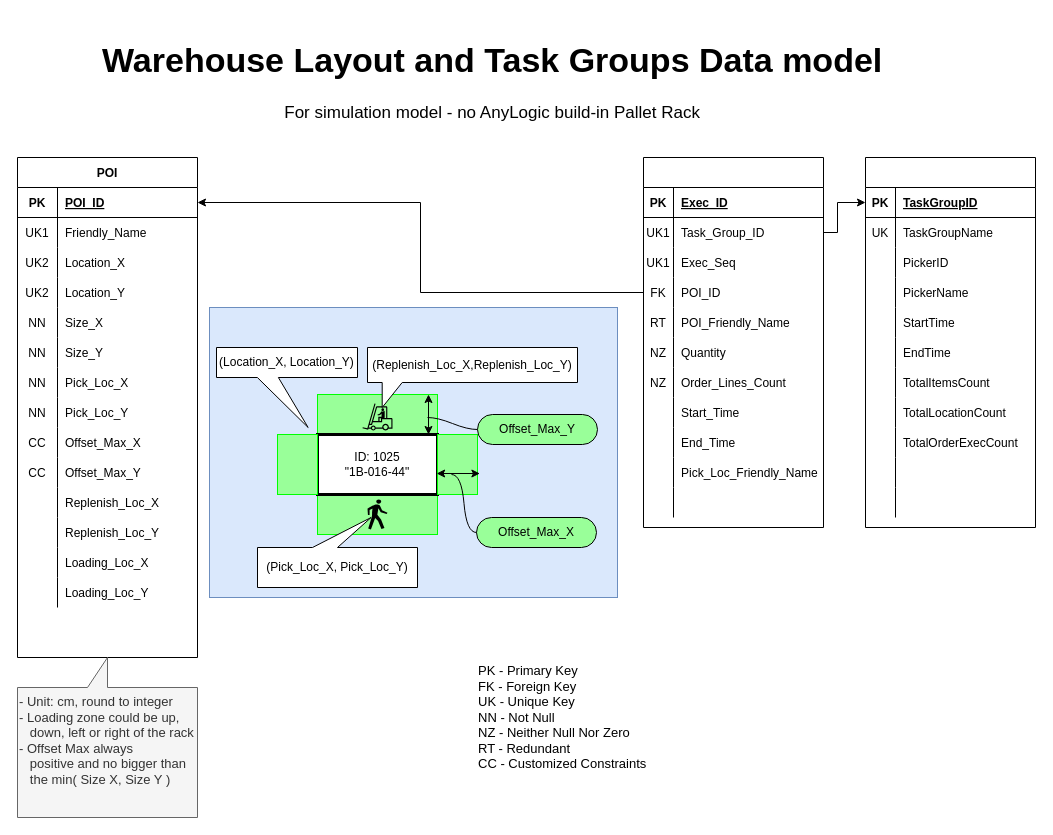
This 1053x835 diagram has some shape labels left out. The shapes that lost their labels are listed below. From the top down, each one's box as (x1, y1, x2, y2) in pixels, then its label:
(642, 156, 824, 528): ExecutionLogs
(864, 156, 1036, 528): TaskGroups
(208, 306, 618, 598): POI (ID: 1025, Friendly Name: 1B-016-44) layout
